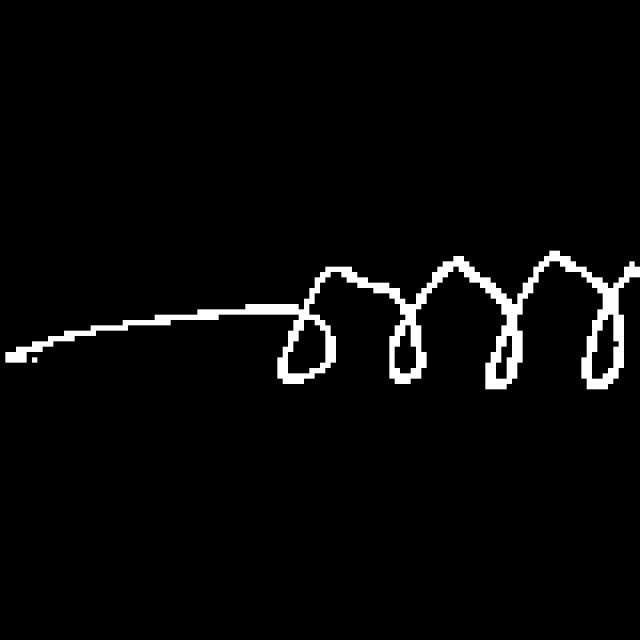inductor: (261, 234, 640, 426)
